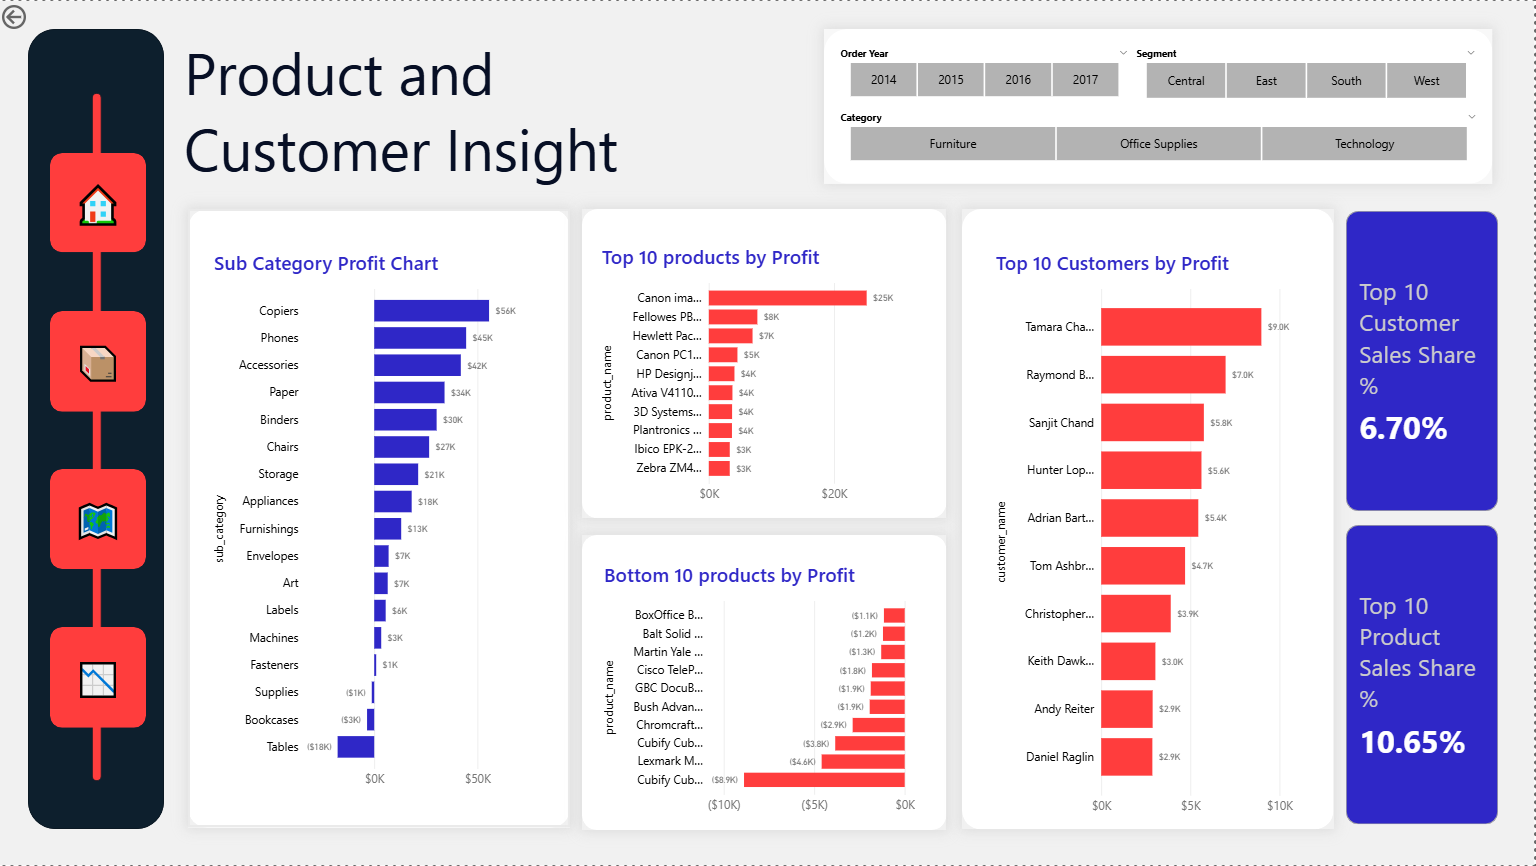

This screenshot's page, from the dashboard's own definition file:
{"tool":"powerbi","page":{"name":"Product&Customer","canvas":[1920,1080],"ordinal":1},"visuals":[{"type":"shape","box":[1033.3,35.6,835.6,193.3],"z":0},{"type":"textbox","box":[228.7,35.6,708.9,226.7],"z":1000},{"type":"slicer","fields":{"Values":["superstore_full.Order Year"]},"box":[1039.9,53.3,384.4,73.3],"z":2000},{"type":"slicer","fields":{"Values":["superstore_full.region"]},"box":[1411,53.7,448.9,75.6],"z":3000},{"type":"shape","box":[236.5,258.9,477.8,773.3],"z":4000},{"type":"clusteredBarChart","title":"Sub Category Profit Chart","fields":{"Category":["superstore_full.sub_category"],"Y":["superstore_full.Total Profit"]},"box":[261,301.1,417.8,697.8],"z":5000},{"type":"shape","box":[731,260,455.6,386.7],"z":6000},{"type":"clusteredBarChart","title":"Top 10 products by Profit","fields":{"Category":["superstore_full.product_name"],"Y":["superstore_full.Total Profit"]},"box":[744.3,293.3,413.3,348.9],"z":7000},{"type":"actionButton","box":[0,0,100,40],"z":8000},{"type":"shape","box":[730,667.8,455.6,368.9],"z":9000},{"type":"clusteredBarChart","title":"Bottom 10 products by Profit","fields":{"Category":["superstore_full.product_name"],"Y":["superstore_full.Total Profit"]},"box":[748.7,691.1,408.9,340],"z":10000},{"type":"shape","box":[1204.9,260,464.4,775.6],"z":11000},{"type":"clusteredBarChart","title":"Top 10 Customers by Profit","fields":{"Category":["superstore_full.customer_name"],"Y":["superstore_full.Total Profit"]},"box":[1238.3,300,406.7,731.1],"z":12000},{"type":"cardVisual","fields":{"Data":["superstore_full.Top 10 Customer Sales Share %"]},"box":[1679.5,257.8,200,385],"z":13000},{"type":"cardVisual","fields":{"Data":["superstore_full.Top 10 Product Sales Share %"]},"box":[1679.5,651.1,200,384.4],"z":14000},{"type":"slicer","fields":{"Values":["superstore_full.category"]},"box":[1040,133.3,820,73.3],"z":15000},{"type":"shape","box":[38.5,35,170,1000],"z":16000},{"type":"shape","box":[118,114,12,860],"z":17000},{"type":"actionButton","box":[64.5,190,120,124],"z":18000},{"type":"actionButton","box":[64.5,386.3,120,126],"z":19000},{"type":"actionButton","box":[64.5,584.7,120,125],"z":20000},{"type":"actionButton","box":[64.5,782,120,126],"z":21000}]}

Visuals, with their boxes on the page's 1920x1080 design canvas (x1, y1, x2, y2). These are canvas units, not pixel positions in the 1536x866 screenshot, which may show the page scaled, cropped or inside an application window:
shape: select_region(1033, 36, 1869, 229)
textbox: select_region(229, 36, 938, 262)
slicer - superstore_full.Order Year: select_region(1040, 53, 1424, 127)
slicer - superstore_full.region: select_region(1411, 54, 1860, 129)
shape: select_region(236, 259, 714, 1032)
"Sub Category Profit Chart" clusteredBarChart: select_region(261, 301, 679, 999)
shape: select_region(731, 260, 1187, 647)
"Top 10 products by Profit" clusteredBarChart: select_region(744, 293, 1158, 642)
actionButton: select_region(0, 0, 100, 40)
shape: select_region(730, 668, 1186, 1037)
"Bottom 10 products by Profit" clusteredBarChart: select_region(749, 691, 1158, 1031)
shape: select_region(1205, 260, 1669, 1036)
"Top 10 Customers by Profit" clusteredBarChart: select_region(1238, 300, 1645, 1031)
cardVisual - superstore_full.Top 10 Customer Sales Share %: select_region(1680, 258, 1880, 643)
cardVisual - superstore_full.Top 10 Product Sales Share %: select_region(1680, 651, 1880, 1036)
slicer - superstore_full.category: select_region(1040, 133, 1860, 207)
shape: select_region(38, 35, 208, 1035)
shape: select_region(118, 114, 130, 974)
actionButton: select_region(64, 190, 184, 314)
actionButton: select_region(64, 386, 184, 512)
actionButton: select_region(64, 585, 184, 710)
actionButton: select_region(64, 782, 184, 908)
